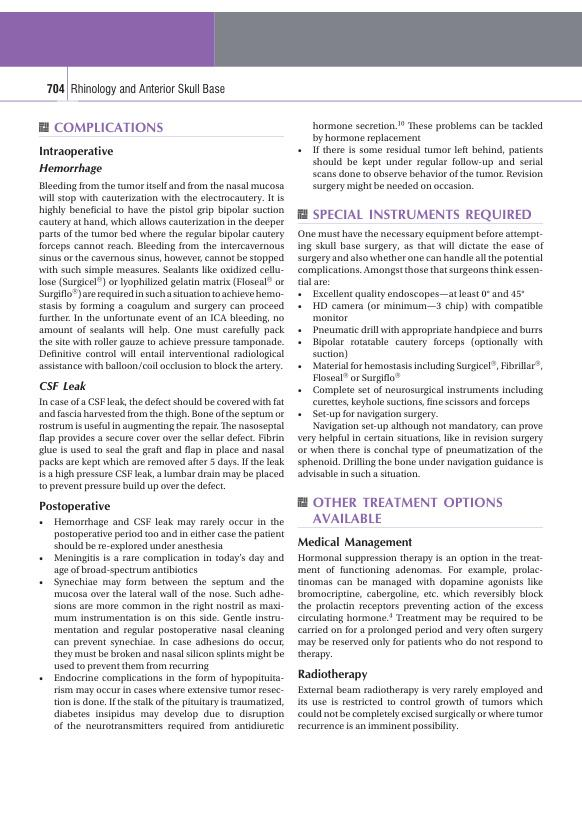header: (69, 82, 226, 97)
list: (38, 516, 286, 733), (297, 288, 547, 420), (296, 120, 544, 193)
section-heading: (311, 496, 504, 525), (312, 208, 532, 223), (53, 121, 164, 133)
sub-section-heading: (297, 535, 413, 550), (297, 667, 368, 682), (38, 145, 114, 159), (39, 500, 111, 514), (38, 162, 103, 176), (37, 379, 88, 392)
text: (37, 180, 285, 372), (297, 552, 544, 661), (37, 397, 285, 493), (296, 421, 544, 479), (297, 229, 546, 286), (297, 684, 544, 733)
